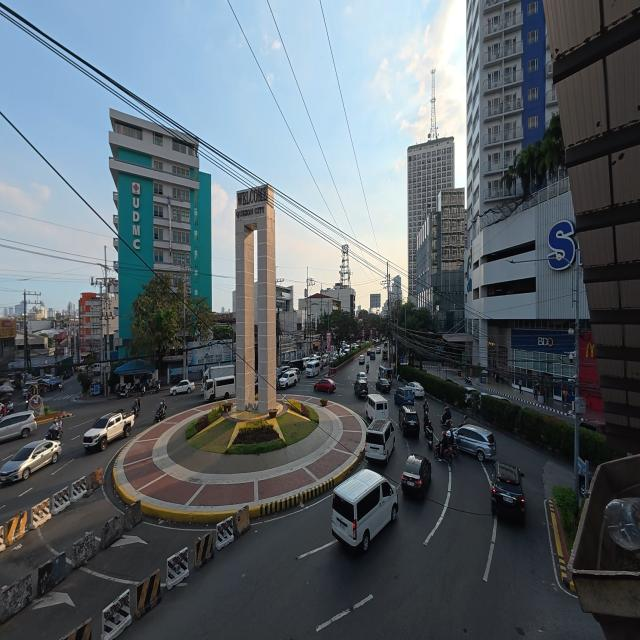bus: (0, 440, 60, 485)
car: (488, 462, 528, 526), (447, 425, 496, 463), (402, 456, 434, 502), (0, 410, 36, 442), (399, 408, 422, 439), (393, 384, 418, 407), (278, 370, 299, 390), (314, 378, 337, 394), (169, 381, 193, 395), (410, 383, 426, 399)
trucks: (82, 413, 132, 451)
vans: (331, 468, 401, 556)
